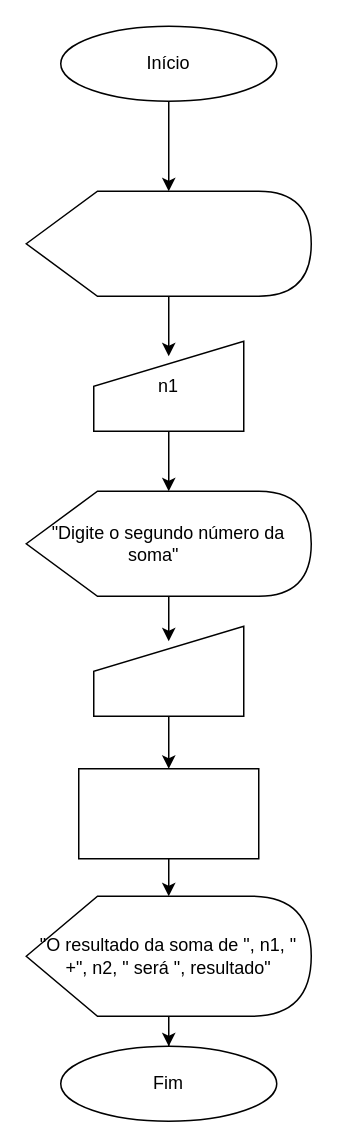
The diagram is 338 pixels wide and 1148 high, and some of its shapes have lost their labels. The centre of each missing label's shape, as x and y in pixels:
"Digite o primeiro número da soma": (x=168, y=243)
n2: (x=168, y=670)
resultado <- n1 + n2: (x=168, y=813)
